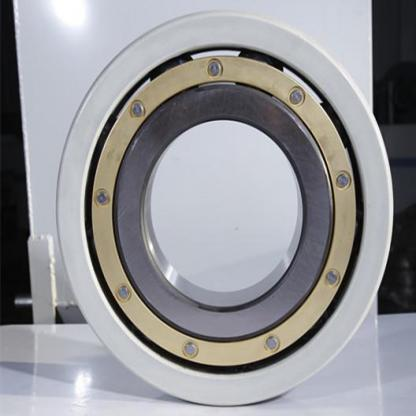FOD: (49, 5, 400, 410)
